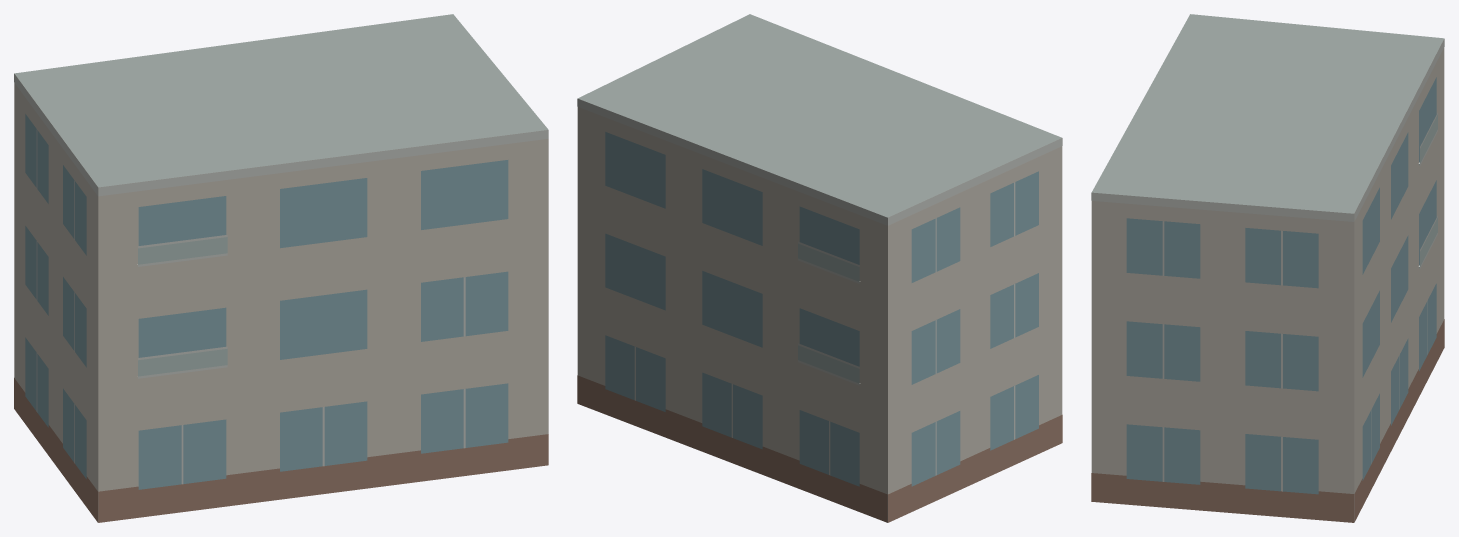
Rendered from survey-upis-32541047.glb.
The picture shows the model from 3 angles, left to right: view 1: azimuth 30°, elevation 25°; view 2: azimuth 150°, elevation 25°; view 3: azimuth 270°, elevation 25°; orthographic projection. The views are drawn at different scales.
Visible parts, largest first — view 1: survey-upis-32541047.tmp; view 2: survey-upis-32541047.tmp; view 3: survey-upis-32541047.tmp.
Boxes of the visible parts, bbox=[...] form: survey-upis-32541047.tmp: bbox=[14, 14, 548, 522]; survey-upis-32541047.tmp: bbox=[577, 14, 1062, 522]; survey-upis-32541047.tmp: bbox=[1091, 14, 1444, 522].
Size of the model in its own units: 12.69 by 9.15 by 9.48.
